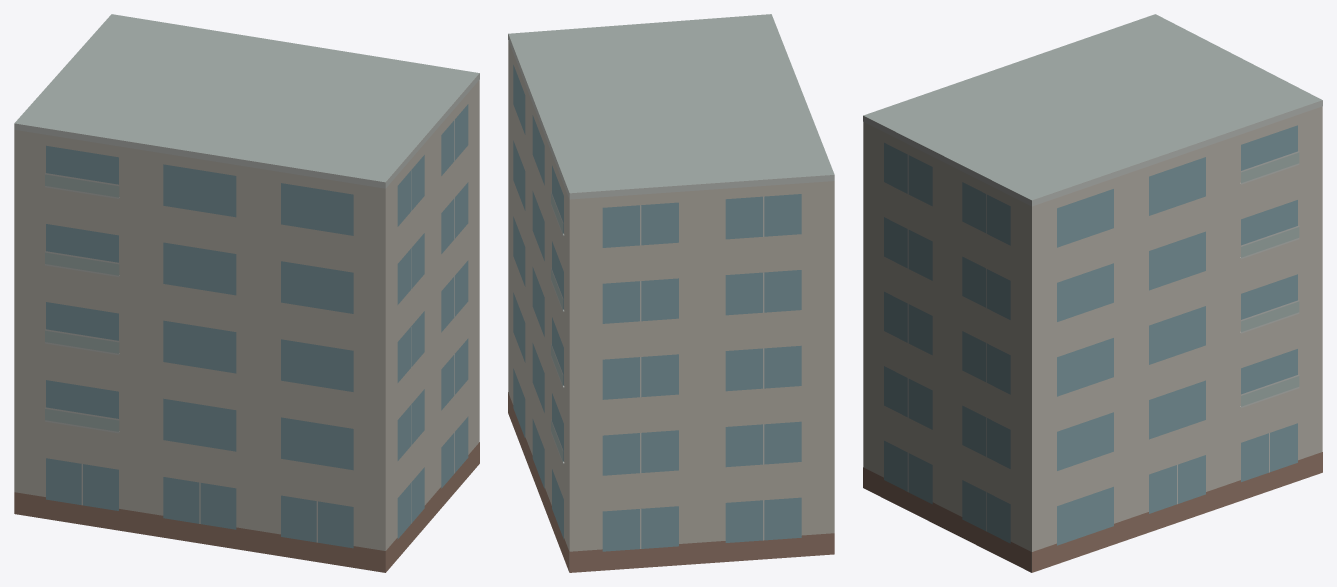
Rendered from survey-upis-32681254.glb.
3 renders of one model, left to right at view 1: azimuth 30°, elevation 25°; view 2: azimuth 150°, elevation 25°; view 3: azimuth 270°, elevation 25°, orthographic. The views are drawn at different scales.
Visible parts, largest first — view 1: survey-upis-32681254.tmp; view 2: survey-upis-32681254.tmp; view 3: survey-upis-32681254.tmp.
Boxes of the visible parts, x1,y1,x2,y2 form: survey-upis-32681254.tmp: (14, 14, 479, 572); survey-upis-32681254.tmp: (508, 14, 834, 572); survey-upis-32681254.tmp: (863, 14, 1322, 572).
Bounding box in the file's own units: 15.95 × 14.85 × 16.62.
